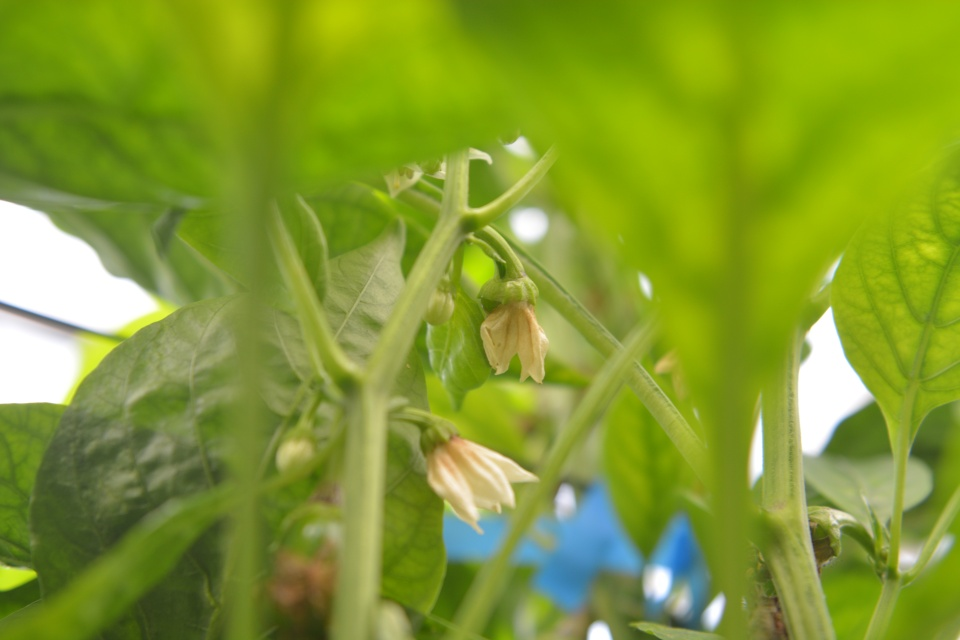flower: (424, 433, 543, 540)
immature: (264, 499, 347, 623)
